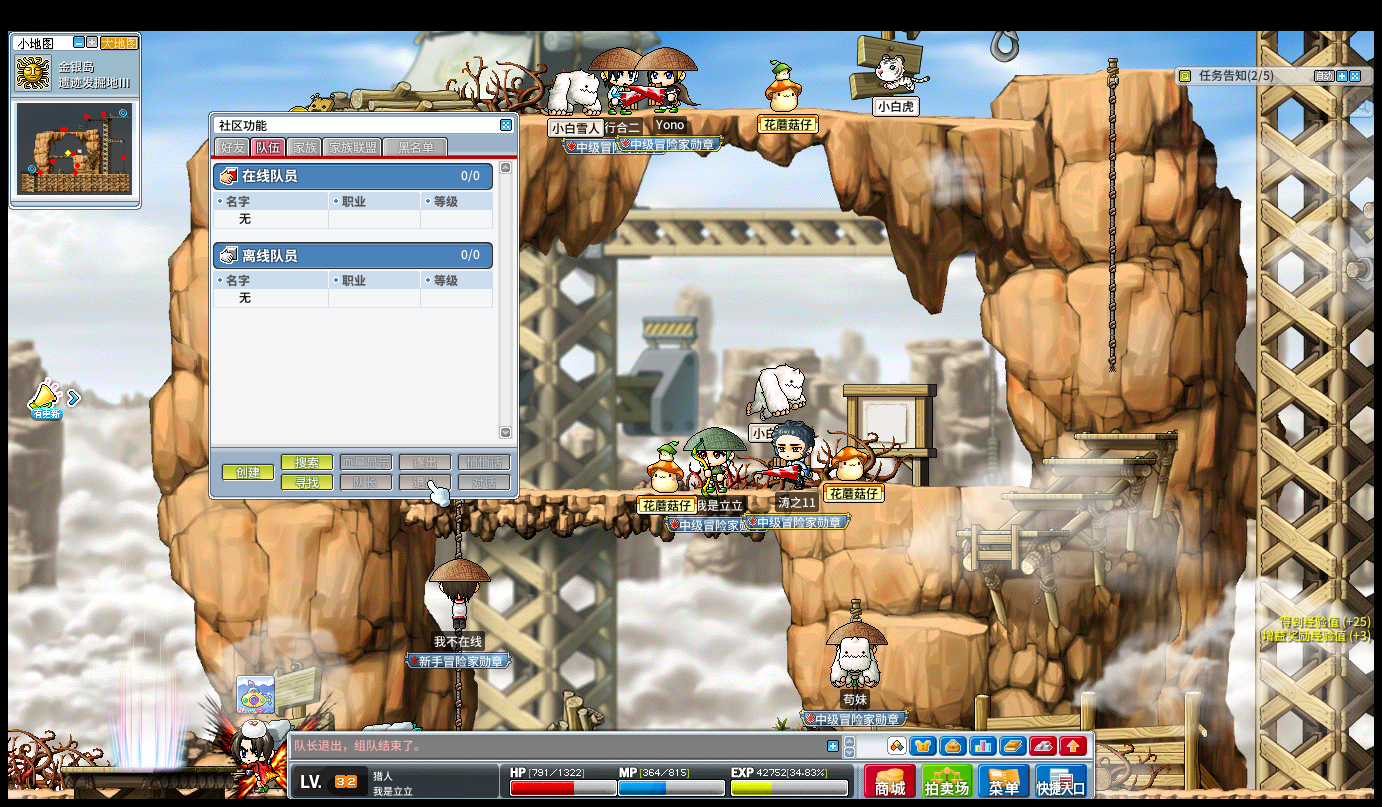floor: (537, 104, 1046, 140), (396, 488, 794, 499), (1011, 65, 1177, 79), (882, 613, 989, 634), (1072, 429, 1178, 442), (891, 482, 1040, 491), (1037, 456, 1151, 465), (1003, 491, 1112, 500), (956, 528, 1070, 536)
rope: (1104, 56, 1119, 381), (1105, 53, 1118, 303), (452, 493, 463, 557), (451, 667, 461, 729)
